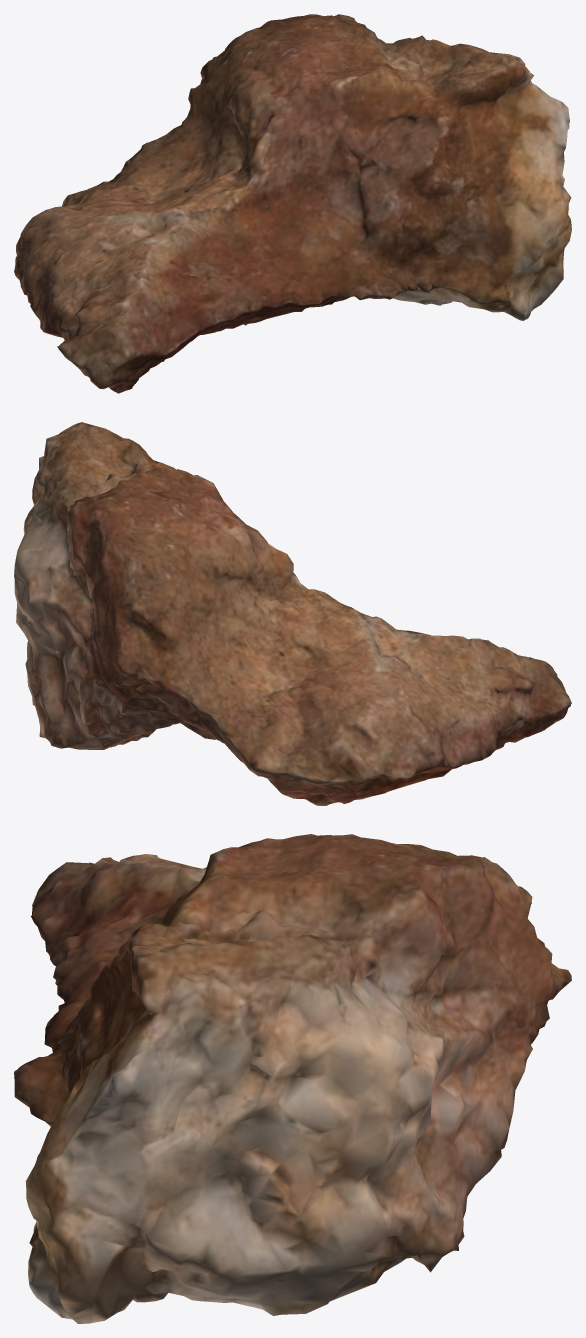
The model's file is piedra.glb.
The picture shows the model from 3 angles, top to bottom: view 1: azimuth 30°, elevation 25°; view 2: azimuth 150°, elevation 25°; view 3: azimuth 270°, elevation 25°; orthographic projection. The views are drawn at different scales.
Visible parts, largest first — view 1: stone_01; view 2: stone_01; view 3: stone_01.
Part boxes in pixels (x1,y1,x2,y2): stone_01: (14,14,571,393); stone_01: (14,422,571,805); stone_01: (14,834,571,1323).
Bounding box in the file's own units: 0.1469 × 0.0718 × 0.089.
Materials: 1 (1 with a texture image).
